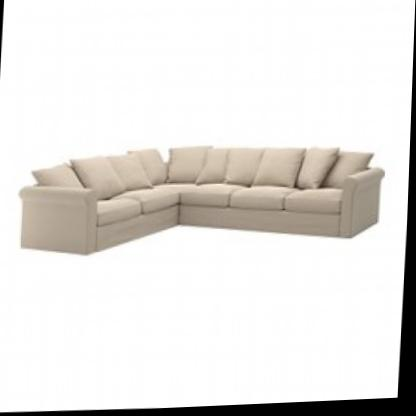Sofa: (9, 117, 393, 287)
